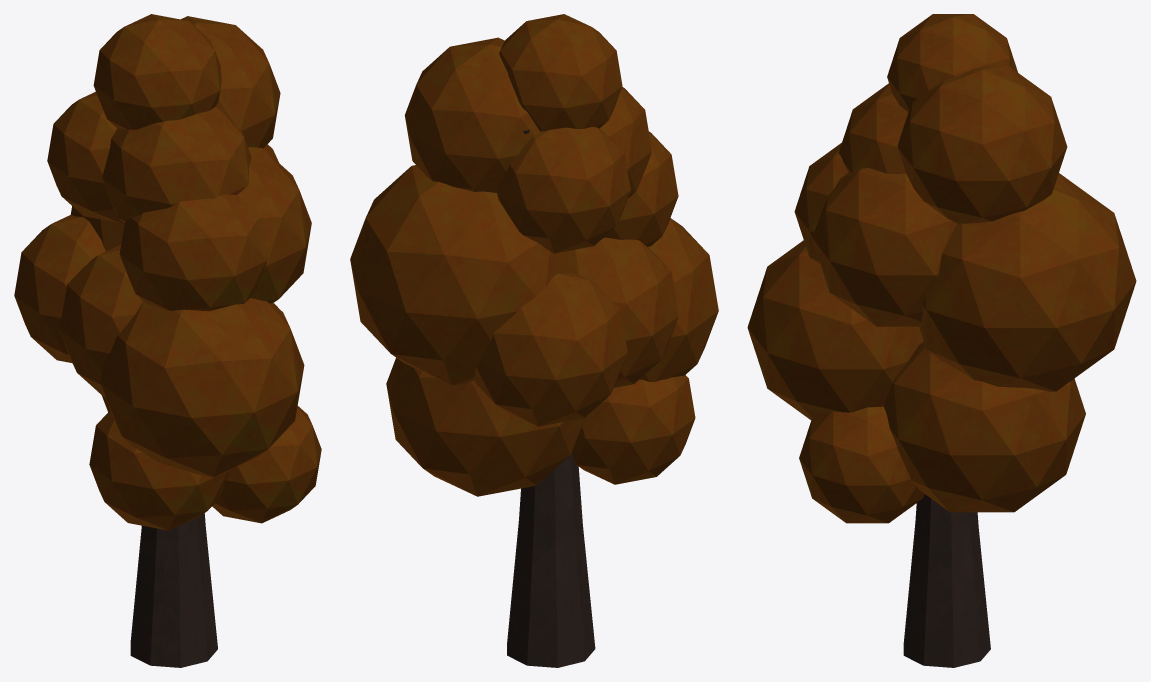
The model's file is tree-green-red-flowers_7.fbx.
The picture shows the model from 3 angles, left to right: view 1: azimuth 30°, elevation 25°; view 2: azimuth 150°, elevation 25°; view 3: azimuth 270°, elevation 25°; orthographic projection.
Parts seen in each view (by area): view 1: Icosphere.137; view 2: Icosphere.137; view 3: Icosphere.137.
Boxes of the visible parts, box(x1,y1,x2,y2) form: Icosphere.137: box(14, 14, 321, 667); Icosphere.137: box(350, 14, 718, 667); Icosphere.137: box(747, 14, 1136, 667).
Size of the model in its own units: 149 by 357 by 201.
